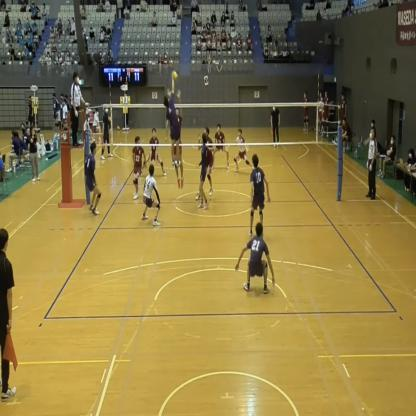spike: (162, 68, 184, 170)
